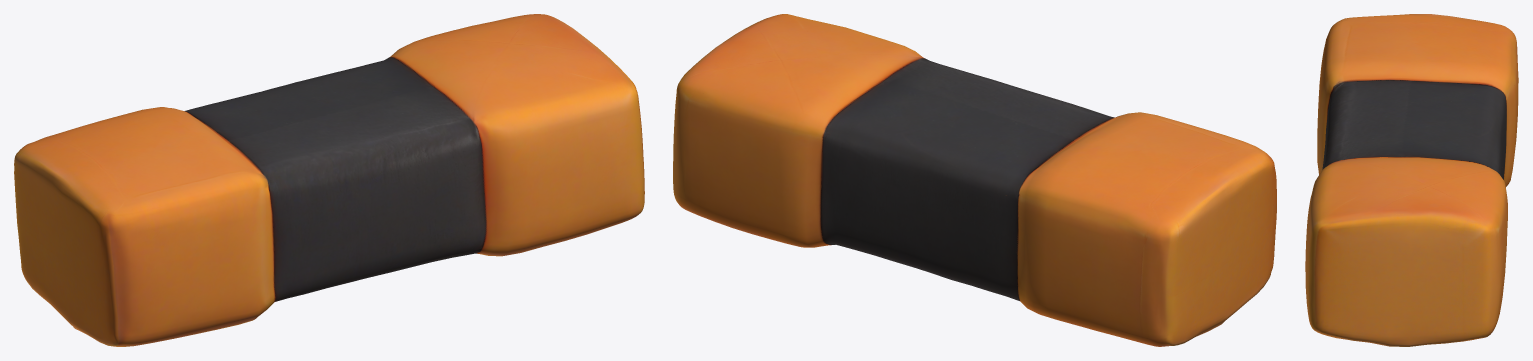
The model's file is Floating_Block_0730053518_texture.fbx.
3 renders of one model, left to right at view 1: azimuth 30°, elevation 25°; view 2: azimuth 150°, elevation 25°; view 3: azimuth 270°, elevation 25°, orthographic. The views are drawn at different scales.
Parts seen in each view (by area): view 1: Mesh_0; view 2: Mesh_0; view 3: Mesh_0.
Part boxes in pixels (bbox=[...]): Mesh_0: bbox=[14, 14, 644, 346]; Mesh_0: bbox=[673, 14, 1276, 346]; Mesh_0: bbox=[1305, 14, 1518, 346].
Size of the model in its own units: 200 by 61.37 by 80.26.
Materials: 1 (1 with a texture image).
